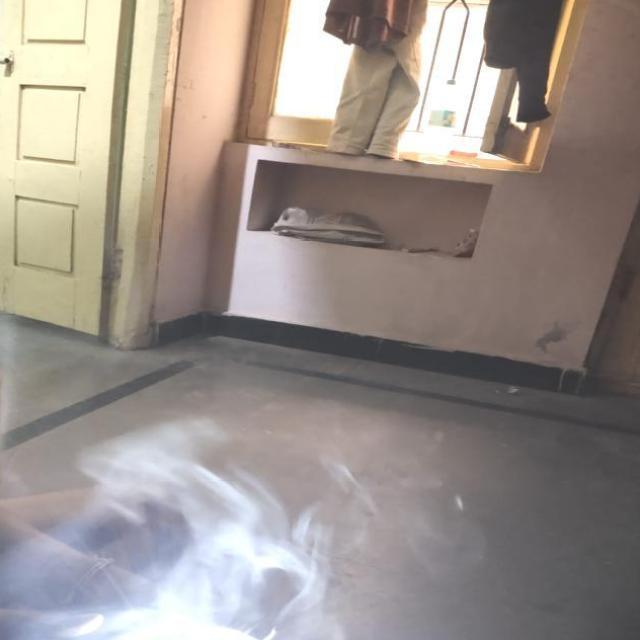fire: (26, 418, 375, 640)
